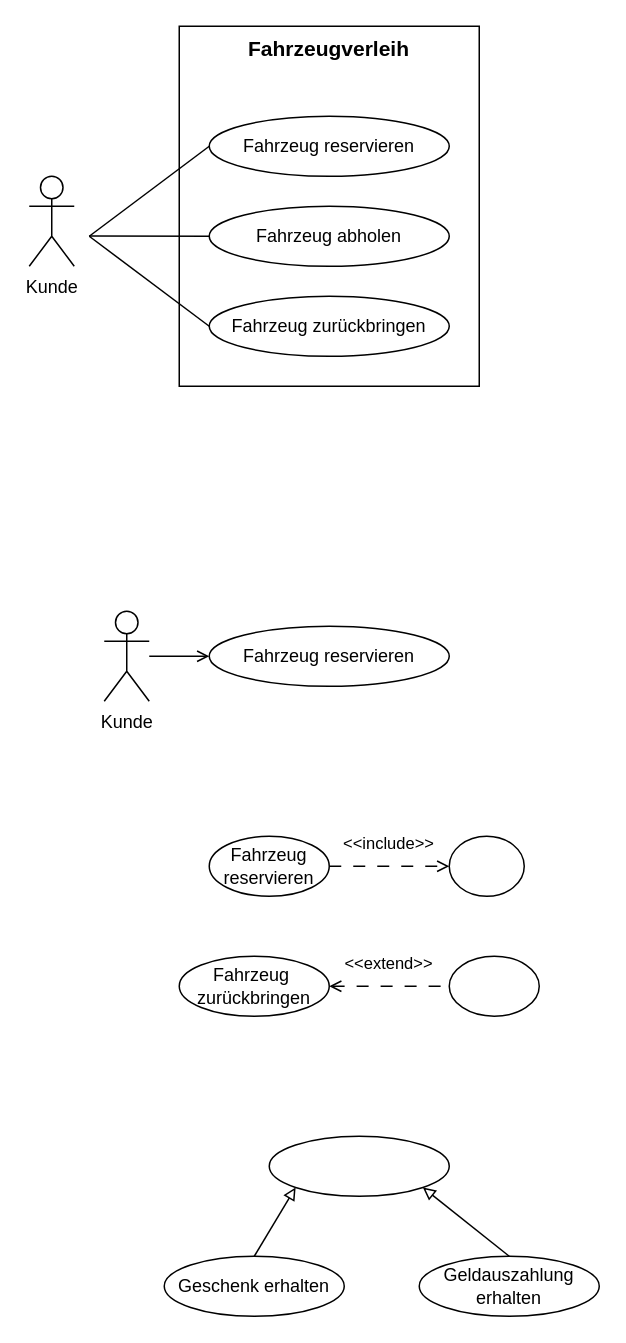
This 626x1343 diagram has some shape labels left out. The shapes that lost their labels are listed below. From the top down, each one's box as (x1, y1, x2, y2) in pixels, then its label:
(448, 835, 524, 896): Login
(448, 955, 539, 1016): Problem melden
(268, 1135, 449, 1196): Bonus erhalten
